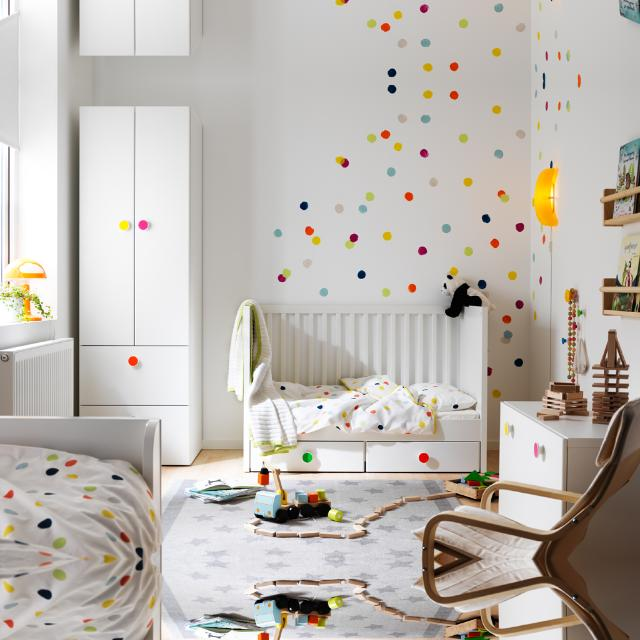armchair: (412, 398, 639, 558), (412, 559, 632, 640)
bed: (0, 416, 162, 558), (0, 559, 162, 640)
curtain: (0, 80, 19, 148), (0, 12, 19, 80)
dresser: (80, 105, 201, 463), (500, 401, 608, 492), (571, 465, 640, 558), (571, 559, 640, 640), (499, 491, 570, 528), (499, 589, 570, 626)
lamp: (534, 166, 559, 226)
rug: (162, 476, 459, 558), (162, 559, 459, 640), (260, 583, 444, 638), (260, 479, 444, 533)
